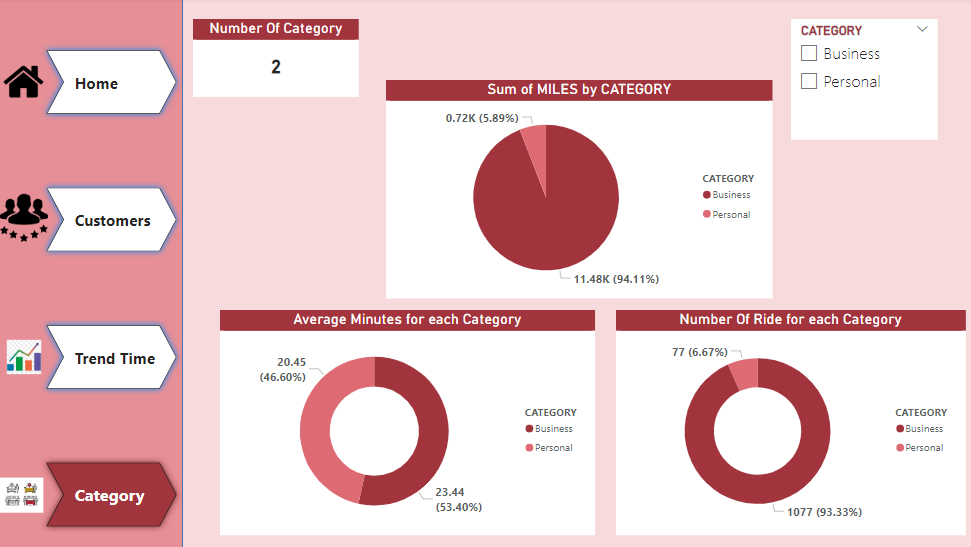

Layout of this report page (visuals, bound fields, positions):
{"tool":"powerbi","page":{"name":"Category","canvas":[1280,720],"ordinal":3},"visuals":[{"type":"donutChart","title":"Number Of Ride for each Category","fields":{"Category":["UberDataset.CATEGORY"],"Y":["Measure.#Ride"]},"box":[811.8,408.9,457.6,294.9],"z":0},{"type":"donutChart","title":"Average Minutes for each Category","fields":{"Category":["UberDataset.CATEGORY"],"Y":["Measure.AverageMinute"]},"box":[293.4,408.9,491,294.9],"z":1000},{"type":"shape","title":"Menu BG","box":[0,0,244.8,720],"z":2000},{"type":"pageNavigator","title":"Menu Buttons","box":[57.6,54.7,187.2,650],"z":3000},{"type":"image","box":[0,79,73,62.3],"z":4000},{"type":"image","box":[0,250.8,73,73],"z":5000},{"type":"image","box":[9.1,442.4,54.7,54.7],"z":6000},{"type":"image","box":[0,621.8,66.9,57.8],"z":7000},{"type":"pieChart","fields":{"Category":["UberDataset.CATEGORY"],"Y":["Sum(UberDataset.MILES)"]},"box":[510.8,107.9,506.2,285.8],"z":8000},{"type":"card","title":"Number Of Category","fields":{"Values":["Measure.#Category"]},"box":[258.4,27.4,217.4,101.9],"z":9000},{"type":"slicer","fields":{"Values":["UberDataset.CATEGORY"]},"box":[1041.3,27.4,191.5,158.1],"z":10000}]}

Visuals, with their boxes in screenshot pixels (x1, y1, x2, y2), scaled from the page's 1280x720 canvas onto the 971x547 screenshot:
"Number Of Ride for each Category" donutChart: Rect(616, 311, 963, 535)
"Average Minutes for each Category" donutChart: Rect(223, 311, 595, 535)
"Menu BG" shape: Rect(0, 0, 186, 546)
"Menu Buttons" pageNavigator: Rect(44, 42, 186, 535)
image: Rect(0, 60, 55, 107)
image: Rect(0, 191, 55, 246)
image: Rect(7, 336, 48, 378)
image: Rect(0, 472, 51, 516)
pieChart - UberDataset.CATEGORY x Sum(UberDataset.MILES): Rect(387, 82, 771, 299)
"Number Of Category" card: Rect(196, 21, 361, 98)
slicer - UberDataset.CATEGORY: Rect(790, 21, 935, 141)
